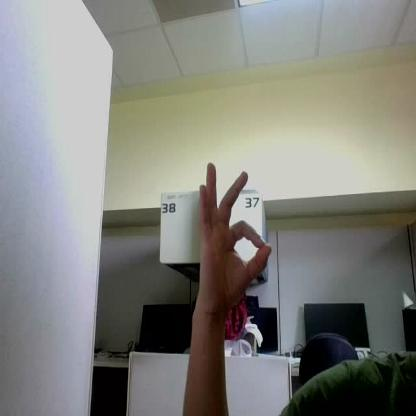F: (197, 162, 270, 312)
